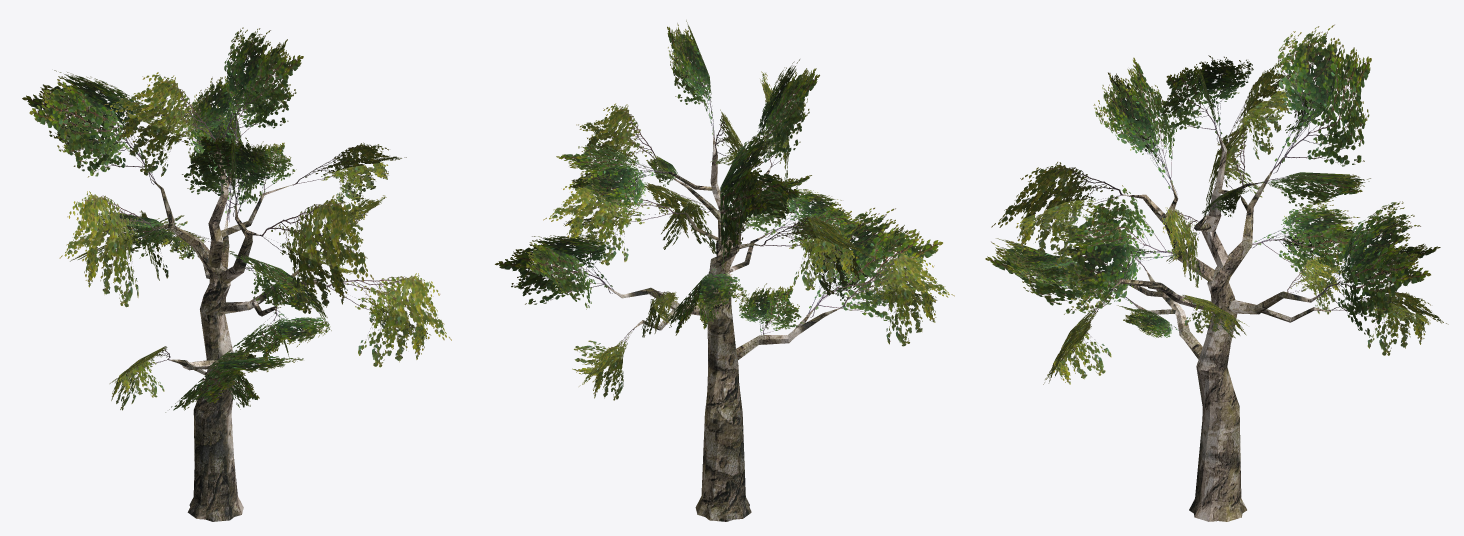
The model's file is beech-tree.obj.
3 renders of one model, left to right at view 1: azimuth 30°, elevation 25°; view 2: azimuth 150°, elevation 25°; view 3: azimuth 270°, elevation 25°, orthographic.
Parts seen in each view (by area): view 1: Circle, Plane.010, Plane.004, Plane.005, Plane.003, Plane.009, Plane.014, Plane.008, Plane, Plane.012, Plane.013, Plane.006 (+8 smaller); view 2: Circle, Plane, Plane.006, Plane.010, Plane.001, Plane.013, Plane.009, Plane.011, Plane.008, Plane.005, Plane.012, Plane.019 (+7 smaller); view 3: Circle, Plane.010, Plane.006, Plane.015, Plane.004, Plane.008, Plane.019, Plane.005, Plane.014, Plane, Plane.007, Plane.013 (+8 smaller).
Part boxes in pixels (x1=…): Circle: x1=150, y1=135, x2=326, y2=521; Plane.010: x1=22, y1=70, x2=156, y2=184; Plane.004: x1=259, y1=194, x2=373, y2=313; Plane.005: x1=223, y1=27, x2=303, y2=141; Plane.003: x1=326, y1=273, x2=451, y2=367; Plane.009: x1=59, y1=191, x2=156, y2=307; Plane.014: x1=104, y1=72, x2=215, y2=176; Plane.008: x1=182, y1=136, x2=279, y2=216; Plane: x1=165, y1=356, x2=303, y2=412; Plane.012: x1=292, y1=142, x2=406, y2=203; Plane.013: x1=183, y1=71, x2=283, y2=145; Plane.006: x1=179, y1=94, x2=261, y2=221; Circle: x1=606, y1=131, x2=842, y2=521; Plane: x1=806, y1=207, x2=942, y2=320; Plane.006: x1=495, y1=234, x2=615, y2=309; Plane.010: x1=720, y1=129, x2=800, y2=268; Plane.001: x1=840, y1=252, x2=954, y2=346; Plane.013: x1=556, y1=142, x2=665, y2=217; Plane.009: x1=760, y1=216, x2=878, y2=294; Plane.011: x1=543, y1=182, x2=678, y2=265; Plane.008: x1=750, y1=59, x2=819, y2=169; Plane.005: x1=667, y1=20, x2=714, y2=139; Plane.012: x1=576, y1=103, x2=659, y2=187; Plane.019: x1=668, y1=266, x2=746, y2=335; Circle: x1=1113, y1=132, x2=1329, y2=521; Plane.010: x1=1270, y1=24, x2=1371, y2=173; Plane.006: x1=1317, y1=201, x2=1440, y2=336; Plane.015: x1=1050, y1=185, x2=1174, y2=313; Plane.004: x1=991, y1=162, x2=1125, y2=263; Plane.008: x1=1093, y1=57, x2=1177, y2=194; Plane.019: x1=1251, y1=200, x2=1367, y2=283; Plane.005: x1=1158, y1=55, x2=1253, y2=142; Plane.014: x1=1225, y1=63, x2=1295, y2=159; Plane: x1=985, y1=238, x2=1139, y2=314; Plane.007: x1=1328, y1=292, x2=1448, y2=355; Plane.013: x1=1252, y1=172, x2=1370, y2=207.
Size of the model in its own units: 28.22 by 36.48 by 31.77.
